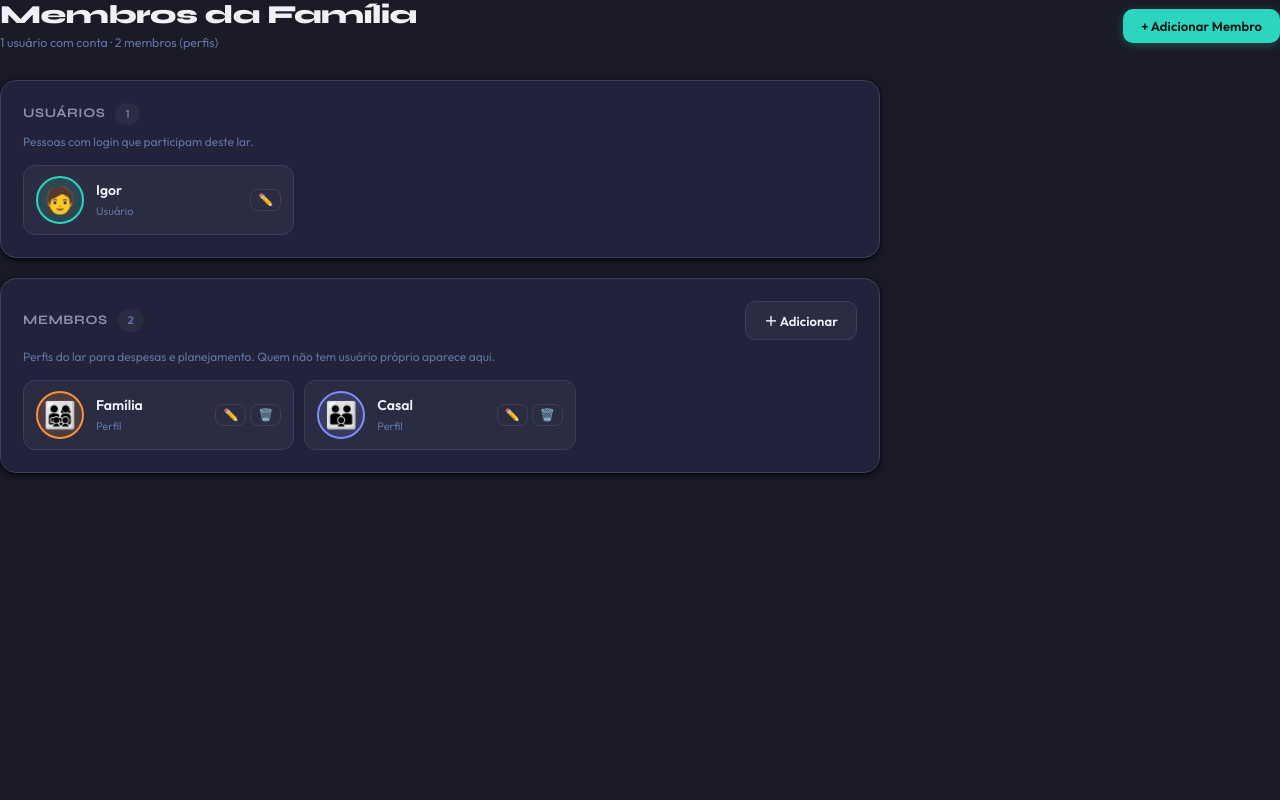
Scenario: MembersView › cancel closes the modal without deleting
Click the button named "Excluir Casal" at {"x": 547, "y": 415}, box [532,404,563,426]
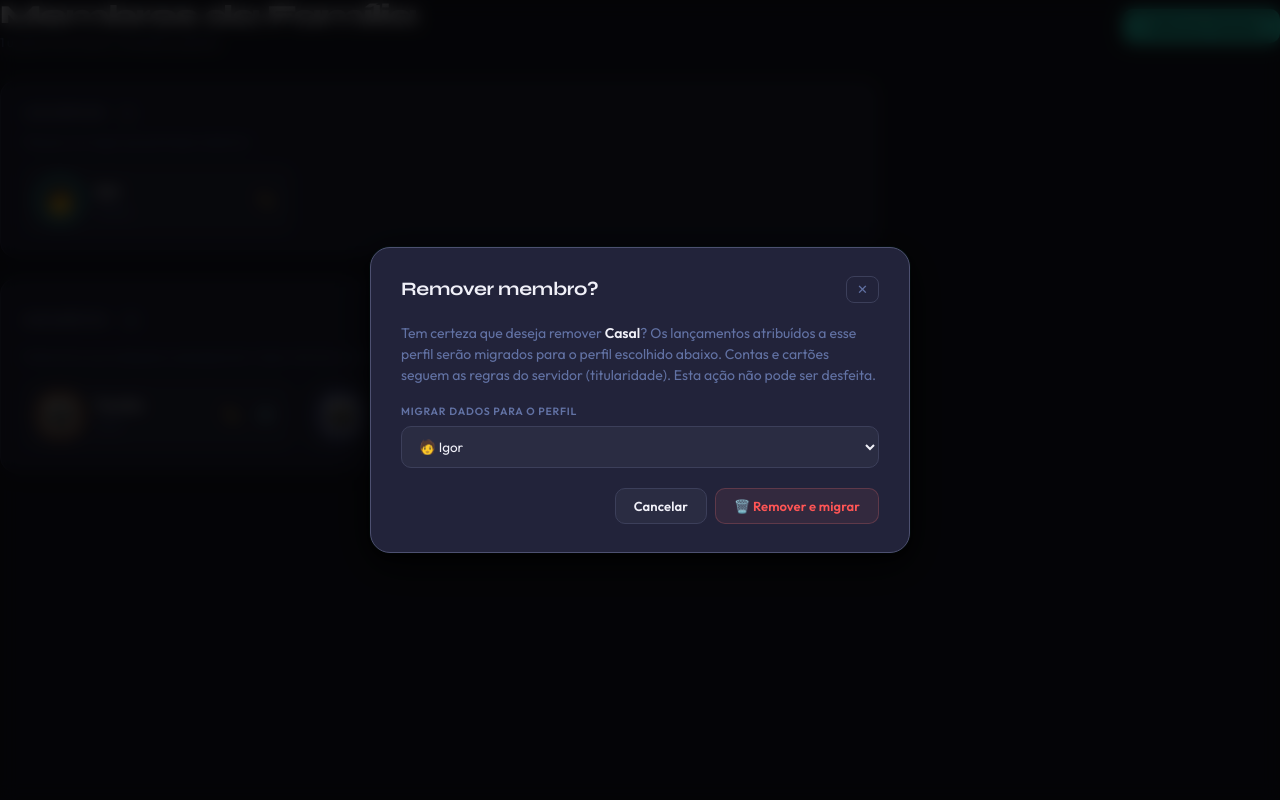
Click the button "Cancelar" at {"x": 661, "y": 506}, box [615,488,707,524]
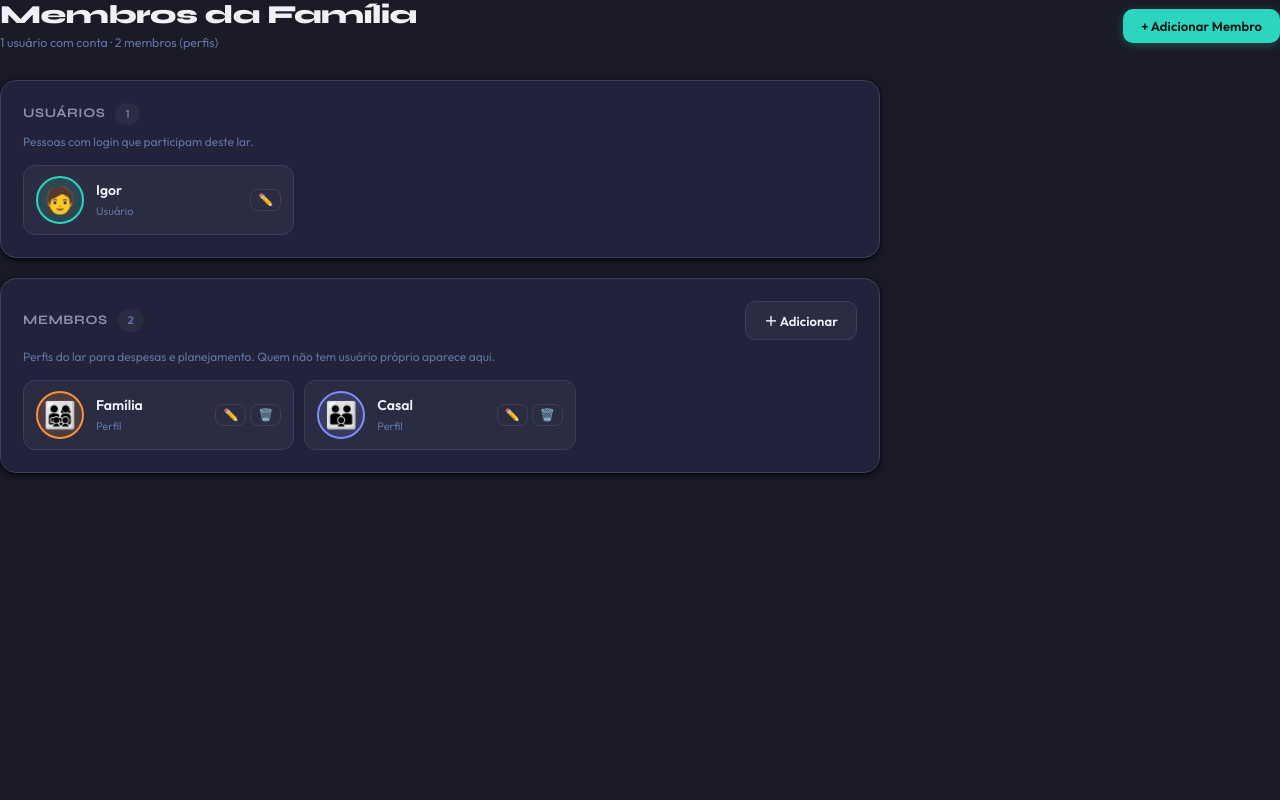
Expected: the heading "Remover membro?" is gone
